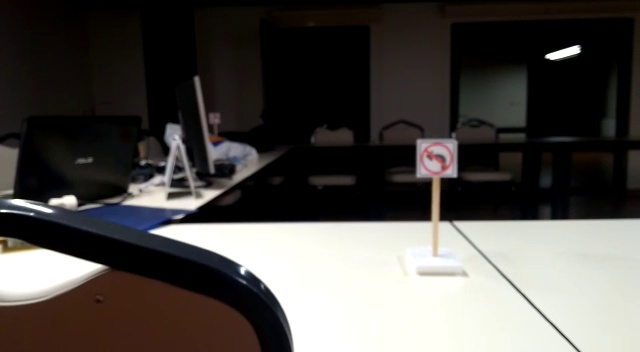sola_donulmez: (419, 138, 458, 177)
